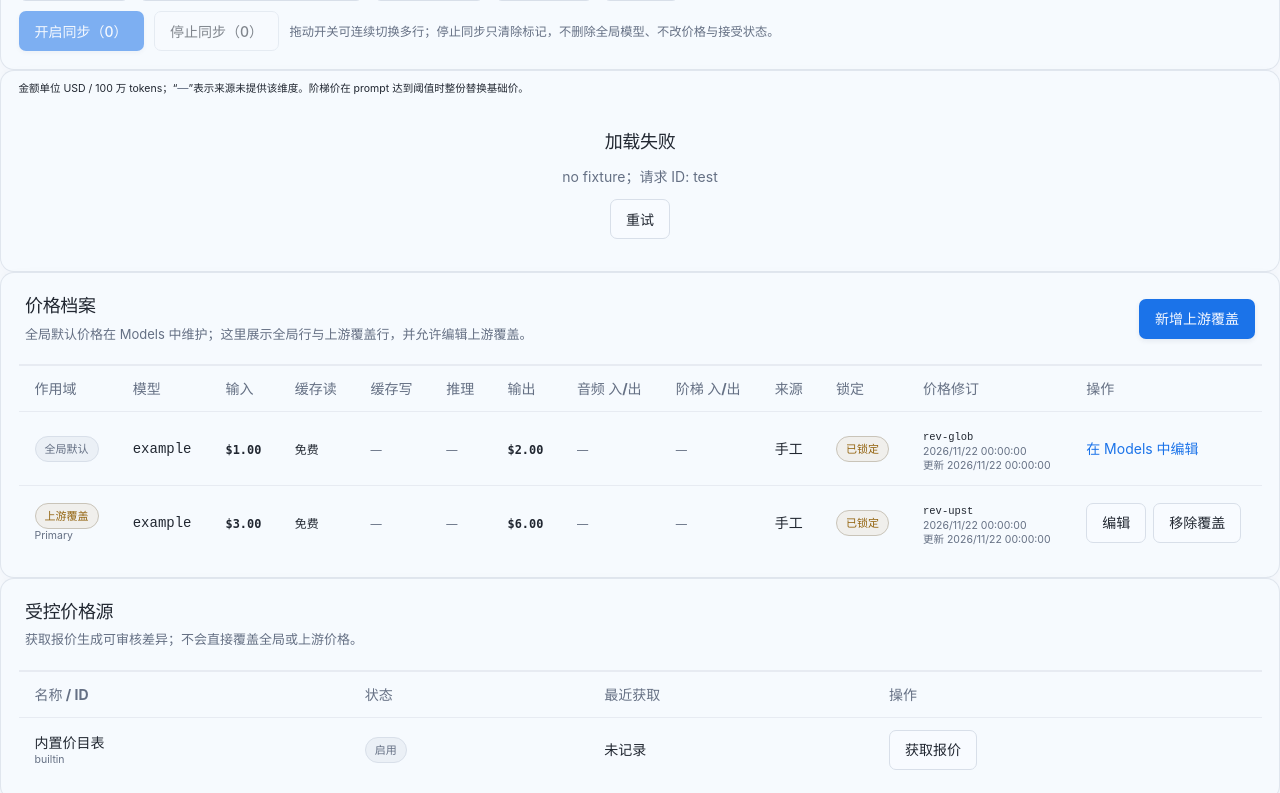
it: prices surface › renders stale_price_quote with its own next action
(page scrolled)
Click the button "获取报价": (933, 750) top-left (889, 730), bottom-right (977, 770)
(page scrolled)
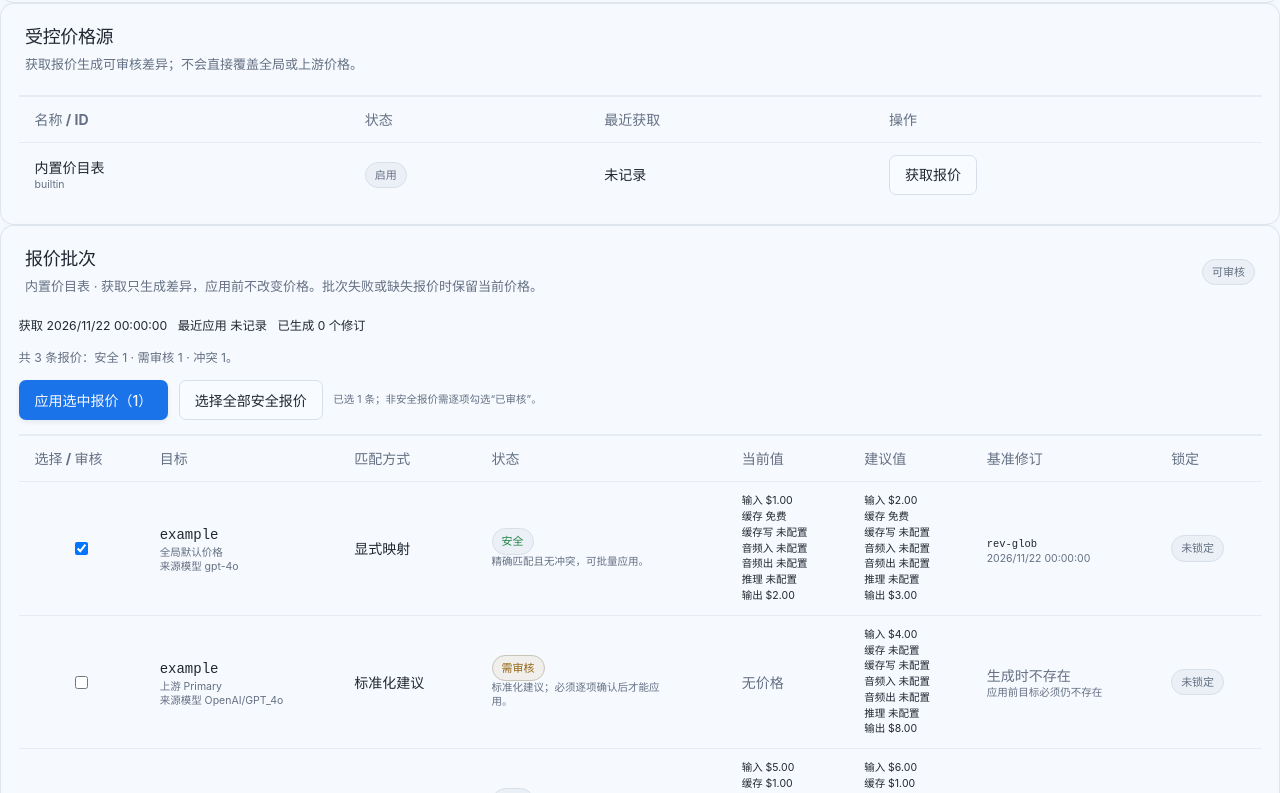
Click the button "应用选中报价（1）": (93, 400) top-left (18, 380), bottom-right (168, 420)
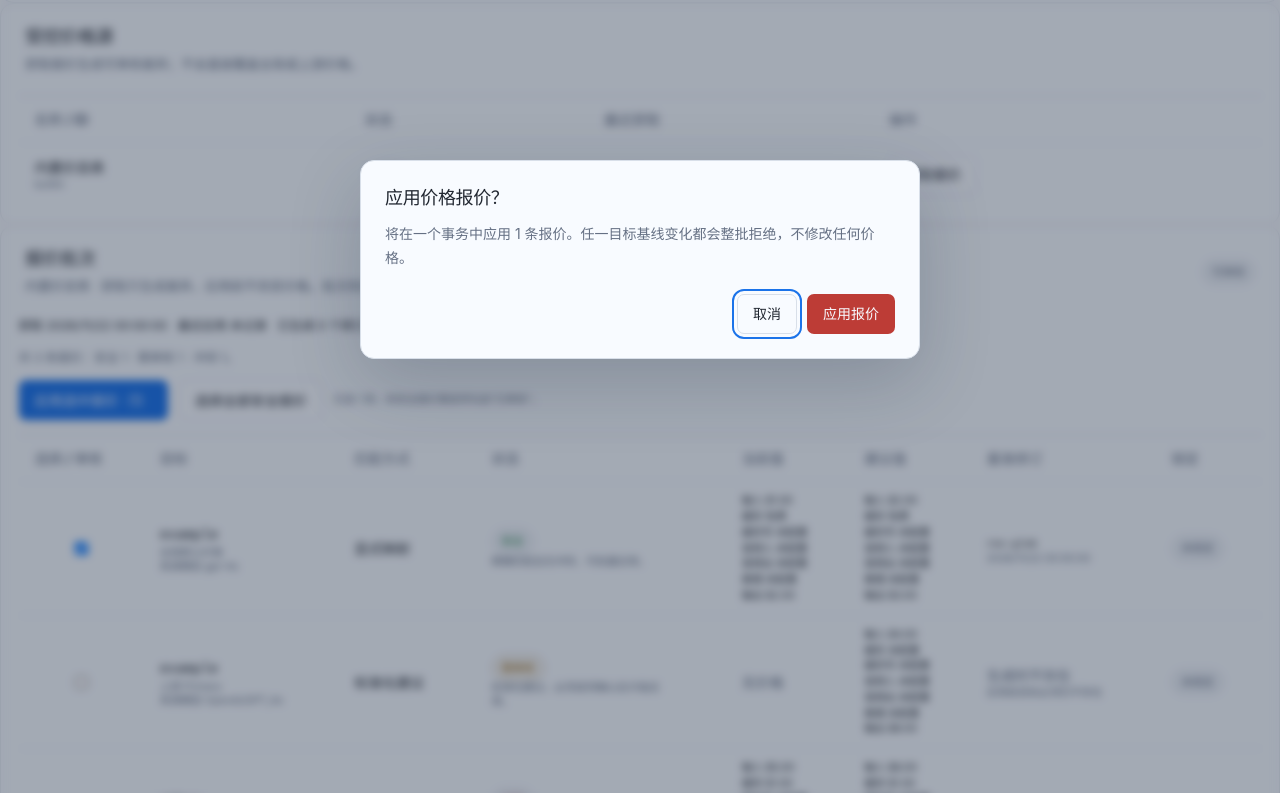
Click the button "应用报价": (851, 314) top-left (807, 294), bottom-right (895, 334)
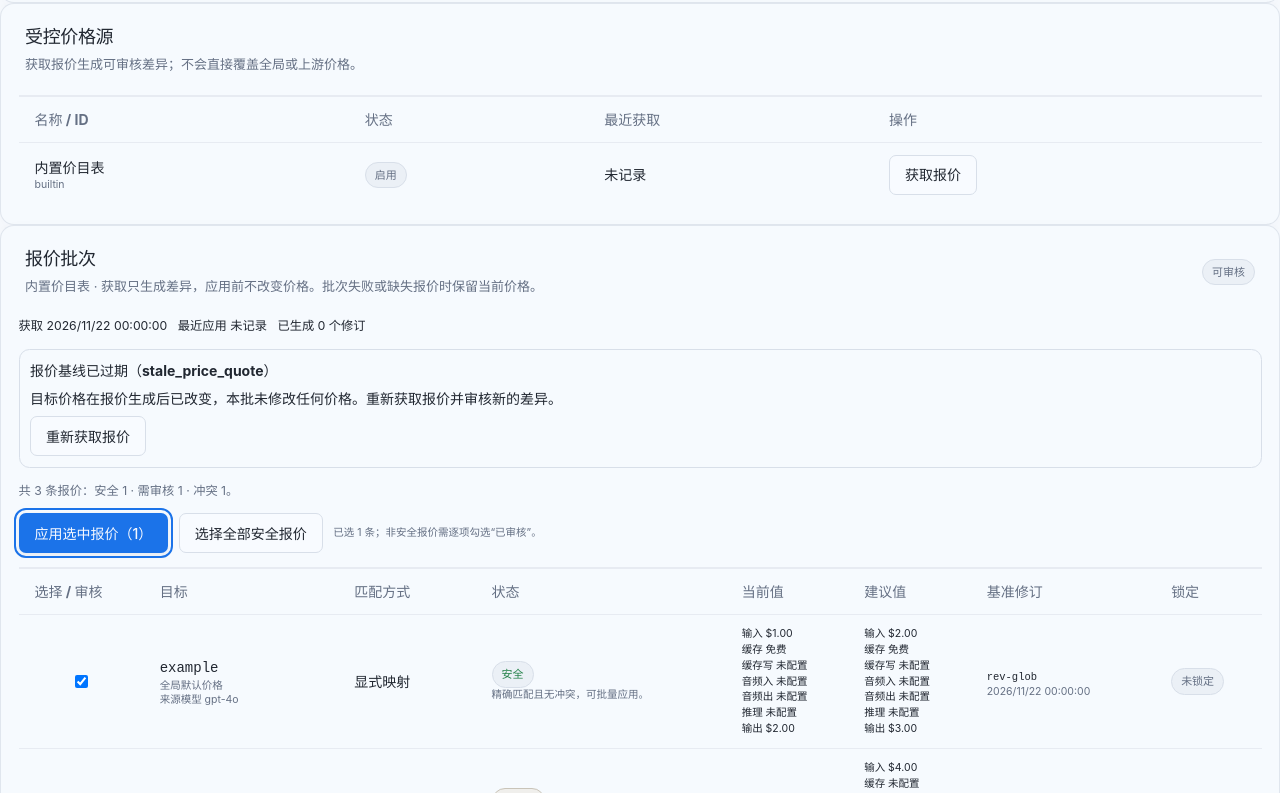
Now the message "报价基线已过期（stale_price_quote） 目标价格在报价生成后已改变，本批未修改任何价格。重新获取报价并审核新的差异。 重新获取报价" is shown, box top-left (18, 349), bottom-right (1262, 468)
